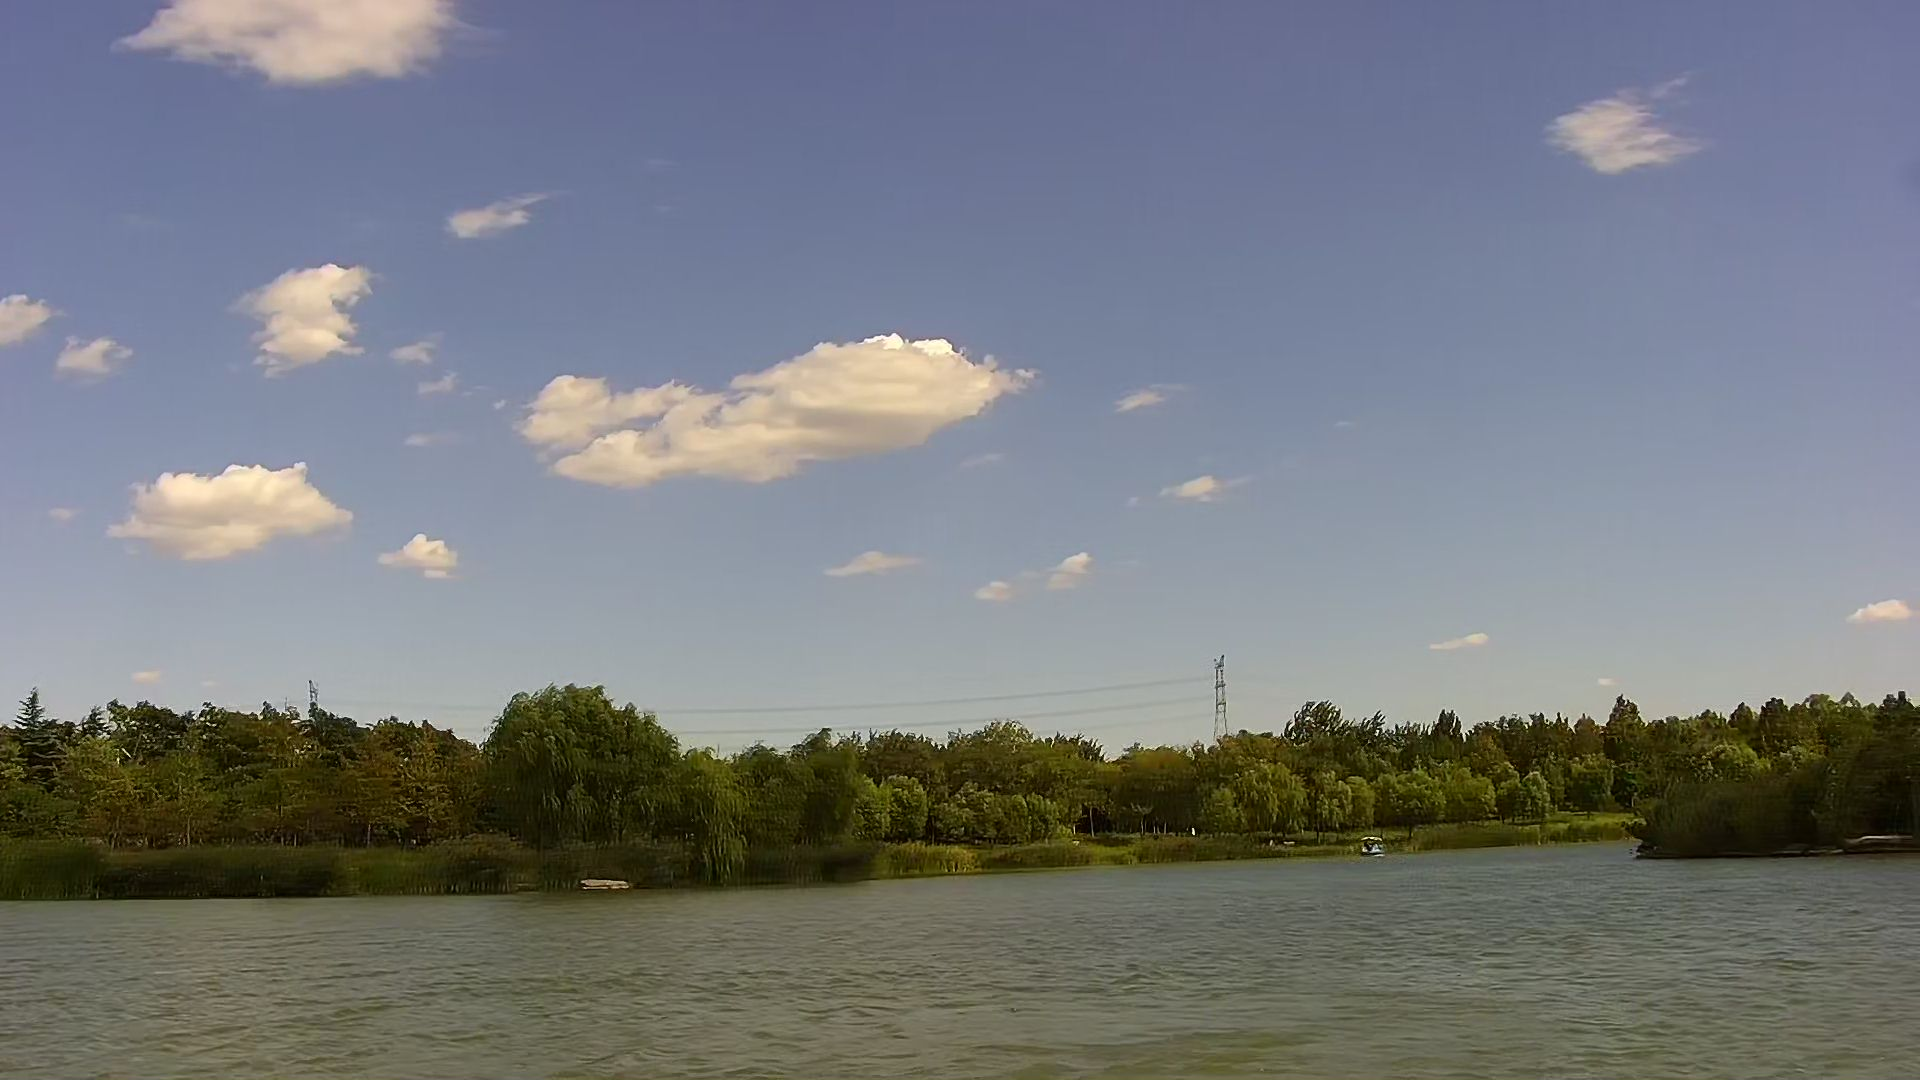boat: (1360, 831, 1374, 858)
rock: (579, 876, 625, 891)
